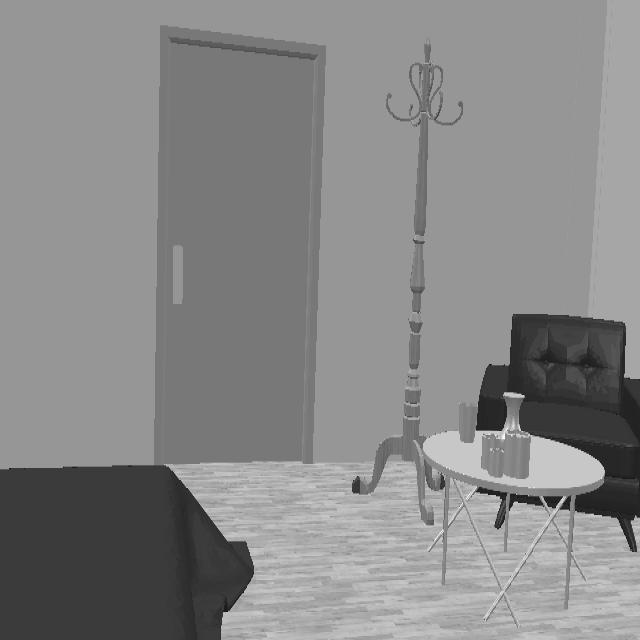bed: (0, 466, 255, 640)
sofa: (504, 314, 640, 550)
table: (423, 432, 606, 518)
